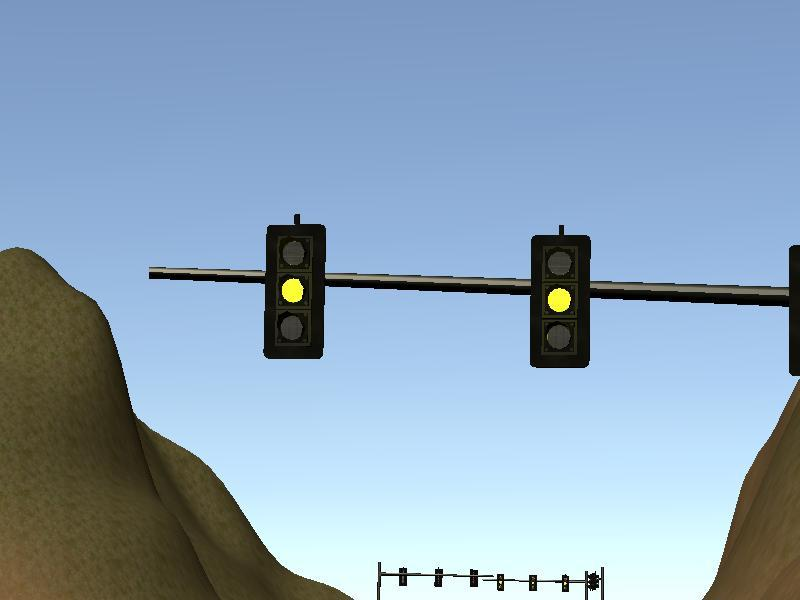Yellow: (264, 224, 325, 360), (530, 234, 591, 370), (527, 573, 537, 594), (561, 575, 568, 594), (497, 573, 504, 591)
